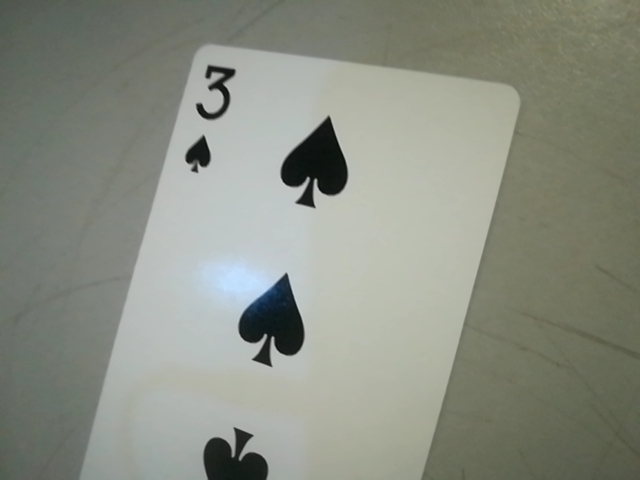ht 3: (172, 55, 242, 183)
